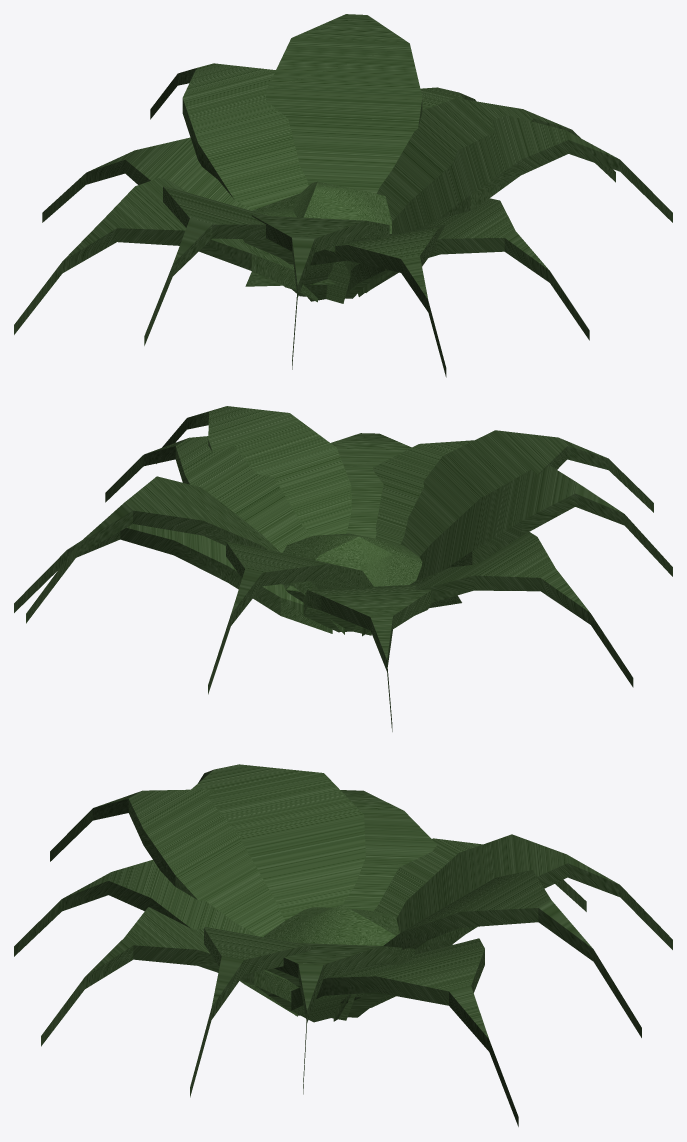
The model's file is fern_1.glb.
The picture shows the model from 3 angles, top to bottom: view 1: azimuth 30°, elevation 25°; view 2: azimuth 150°, elevation 25°; view 3: azimuth 270°, elevation 25°; orthographic projection. The views are drawn at different scales.
Visible parts, largest first — view 1: fern_1; view 2: fern_1; view 3: fern_1.
Part boxes in pixels (left/top/right/bottom): fern_1: left=14, top=14, right=672, bottom=377; fern_1: left=14, top=406, right=672, bottom=731; fern_1: left=14, top=764, right=672, bottom=1126.
Bounding box in the file's own units: 2.03 × 0.5463 × 1.95.
1 material, 1 textured.
